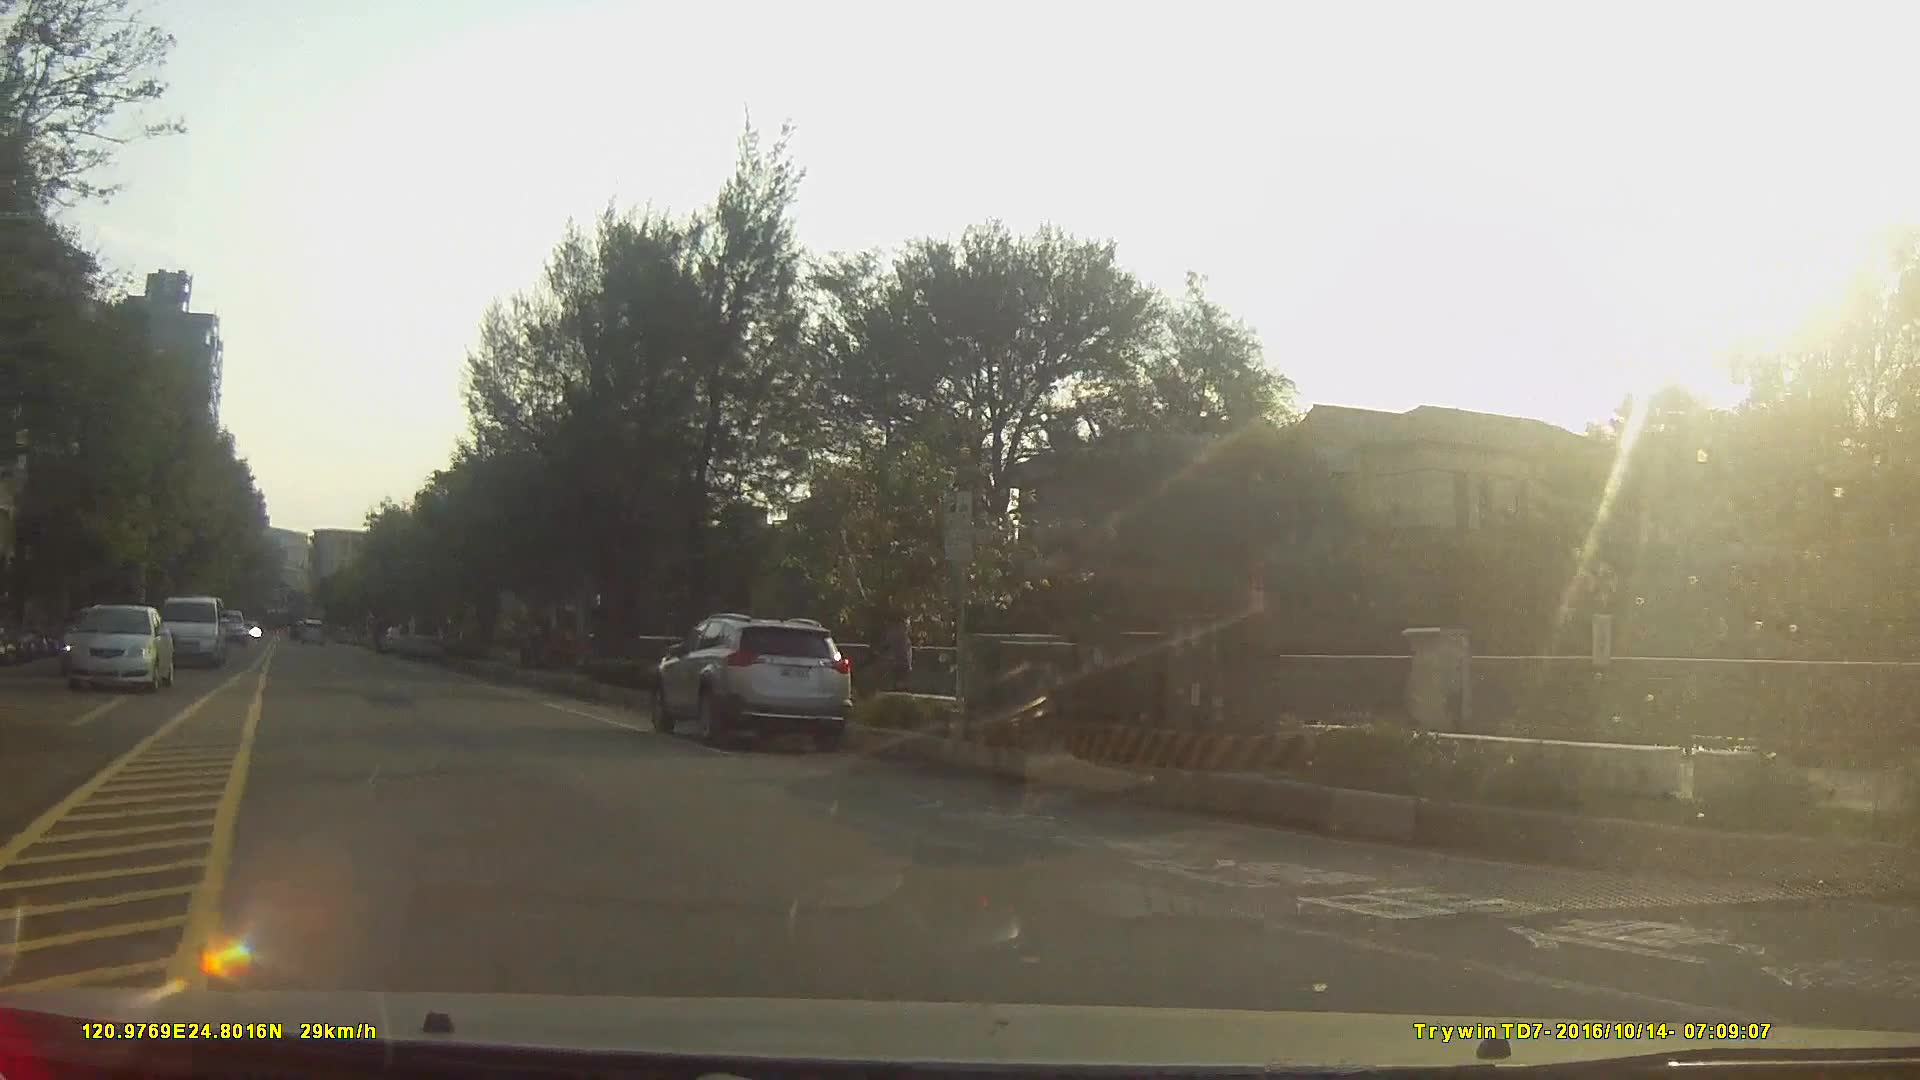vehicle: (651, 609, 855, 756), (63, 603, 175, 692), (160, 596, 225, 667), (394, 612, 444, 659), (208, 608, 248, 646)
